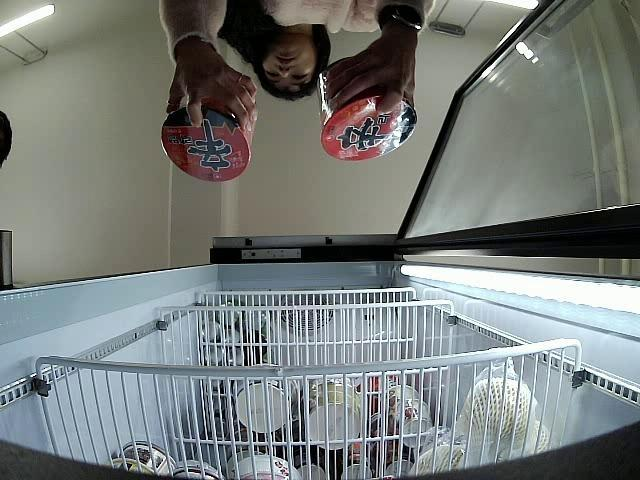01_ShinRamen_L: (318, 56, 419, 162), (160, 102, 253, 184)
